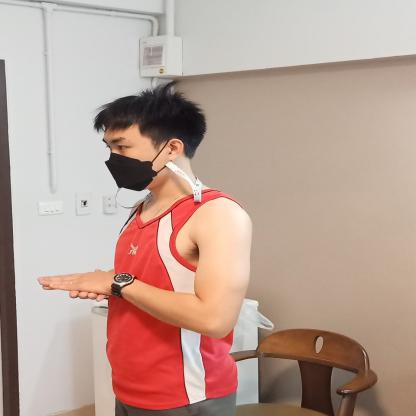Love: (31, 259, 215, 331)
